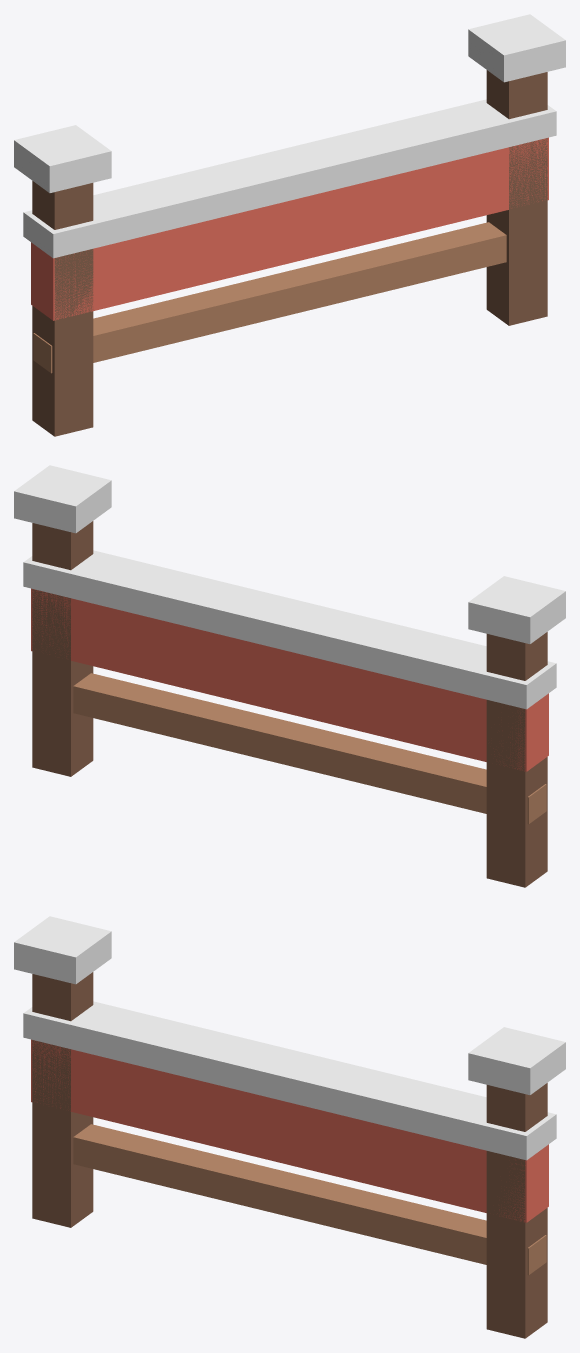
File: low_fence.glb
The picture shows the model from 3 angles, top to bottom: view 1: azimuth 30°, elevation 25°; view 2: azimuth 150°, elevation 25°; view 3: azimuth 330°, elevation 25°; orthographic projection.
Visible parts, largest first — view 1: Prop_low_fence; view 2: Prop_low_fence; view 3: Prop_low_fence.
Part boxes in pixels (bbox=[...]): Prop_low_fence: bbox=[14, 14, 565, 436]; Prop_low_fence: bbox=[14, 465, 565, 887]; Prop_low_fence: bbox=[14, 916, 565, 1338].
Size of the model in its own units: 2 by 1.03 by 0.24.
